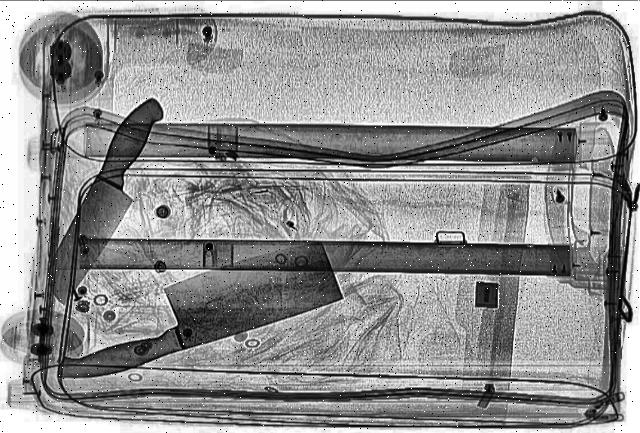Knife: (20, 232, 372, 390), (32, 92, 178, 306)
